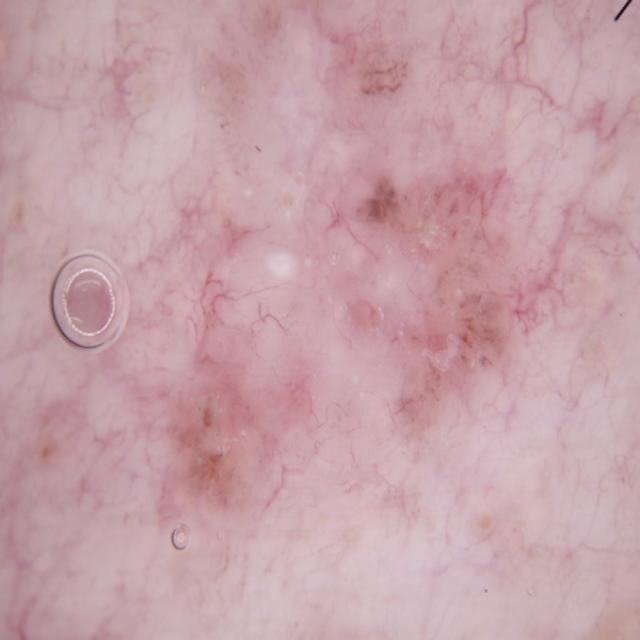Skin-Cancer Basal cell carcinoma: (13, 5, 640, 640)
